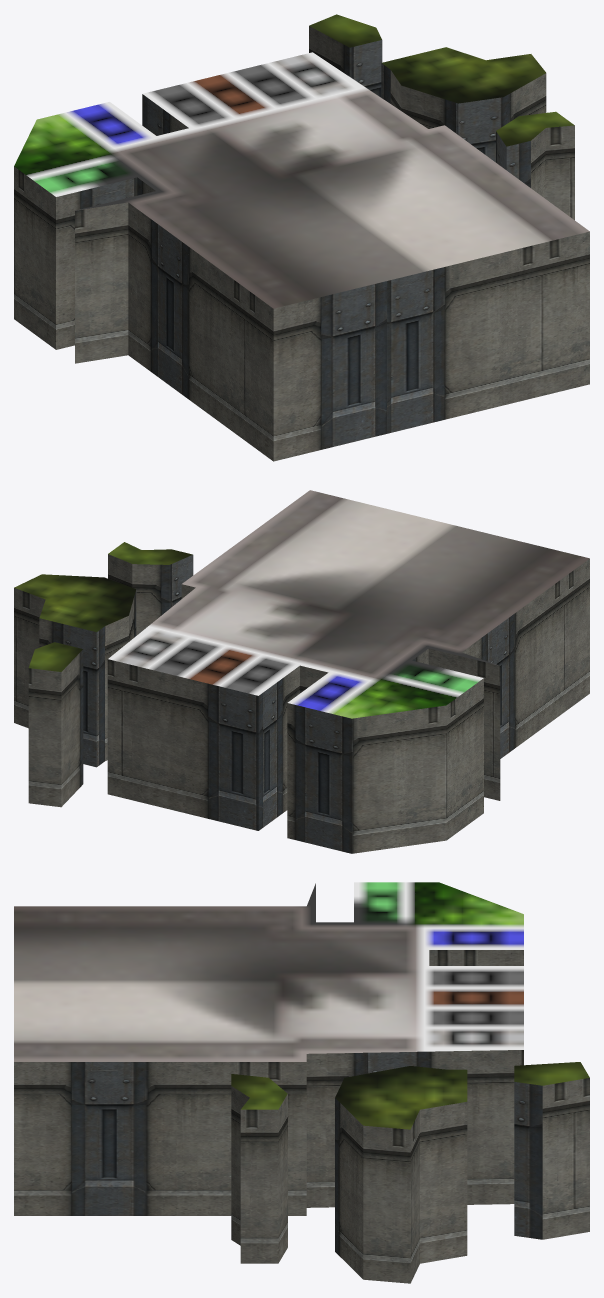
Rendered from BuildingSystem-03-Advance-03-Heavy-4-66-01.glb.
3 renders of one model, top to bottom at view 1: azimuth 30°, elevation 25°; view 2: azimuth 150°, elevation 25°; view 3: azimuth 270°, elevation 25°, orthographic. The views are drawn at different scales.
Visible parts, largest first — view 1: buildings/saxarba/SMV_Buildings/BuildingSystem-03-Advance-03; view 2: buildings/saxarba/SMV_Buildings/BuildingSystem-03-Advance-03; view 3: buildings/saxarba/SMV_Buildings/BuildingSystem-03-Advance-03.
Part boxes in pixels (bbox=[...]): buildings/saxarba/SMV_Buildings/BuildingSystem-03-Advance-03: bbox=[14, 14, 589, 461]; buildings/saxarba/SMV_Buildings/BuildingSystem-03-Advance-03: bbox=[14, 490, 589, 853]; buildings/saxarba/SMV_Buildings/BuildingSystem-03-Advance-03: bbox=[14, 882, 589, 1283].
Bounding box in the file's own units: 62 × 18 × 61.
